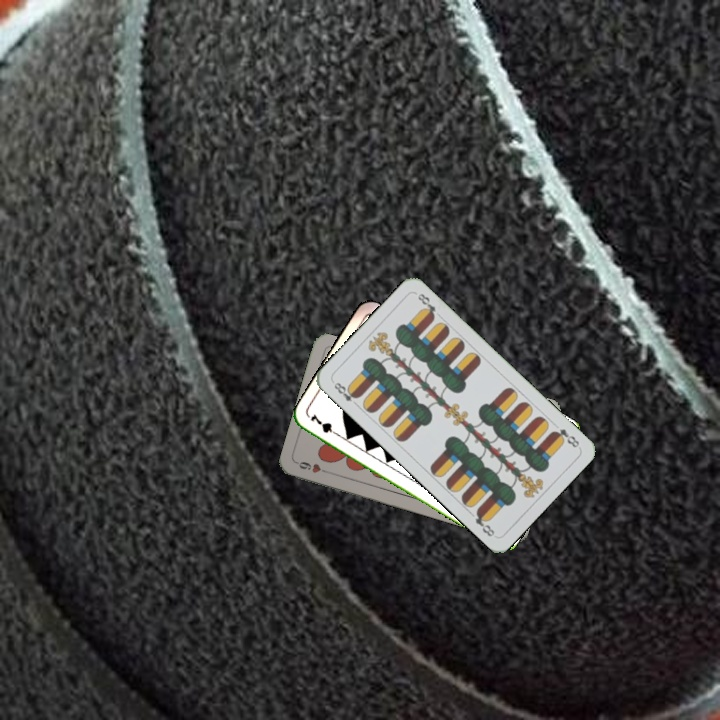E8: (330, 378, 362, 409), (548, 425, 582, 450)
G7: (306, 410, 343, 439)
H9: (293, 457, 333, 476)
